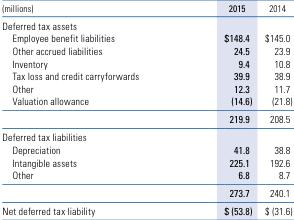table: (1, 1, 291, 216)
table column: (1, 1, 180, 216), (180, 1, 257, 216), (257, 1, 291, 216)
table column header: (1, 1, 291, 16)
table projected row header: (1, 127, 291, 143), (1, 16, 291, 31)
table row: (1, 109, 291, 127), (1, 183, 291, 201), (1, 127, 291, 143), (1, 1, 291, 16), (1, 16, 291, 31), (1, 94, 291, 109), (1, 168, 291, 183), (1, 201, 291, 216), (1, 43, 291, 56), (1, 56, 291, 69), (1, 81, 291, 94), (1, 155, 291, 168), (1, 31, 291, 43), (1, 69, 291, 81), (1, 143, 291, 155)
